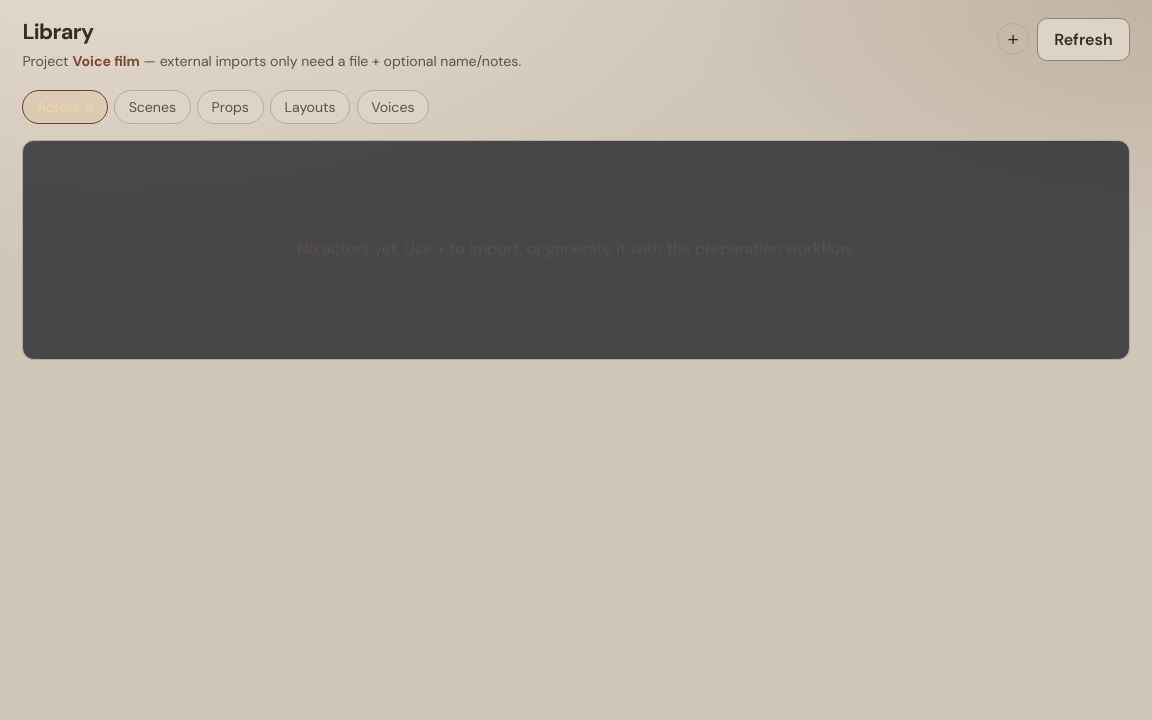
Test: LibraryPage Voices › edits an asset name and notes from its Library card
Click the button "Voices" at [393, 107], box [356, 90, 429, 124]
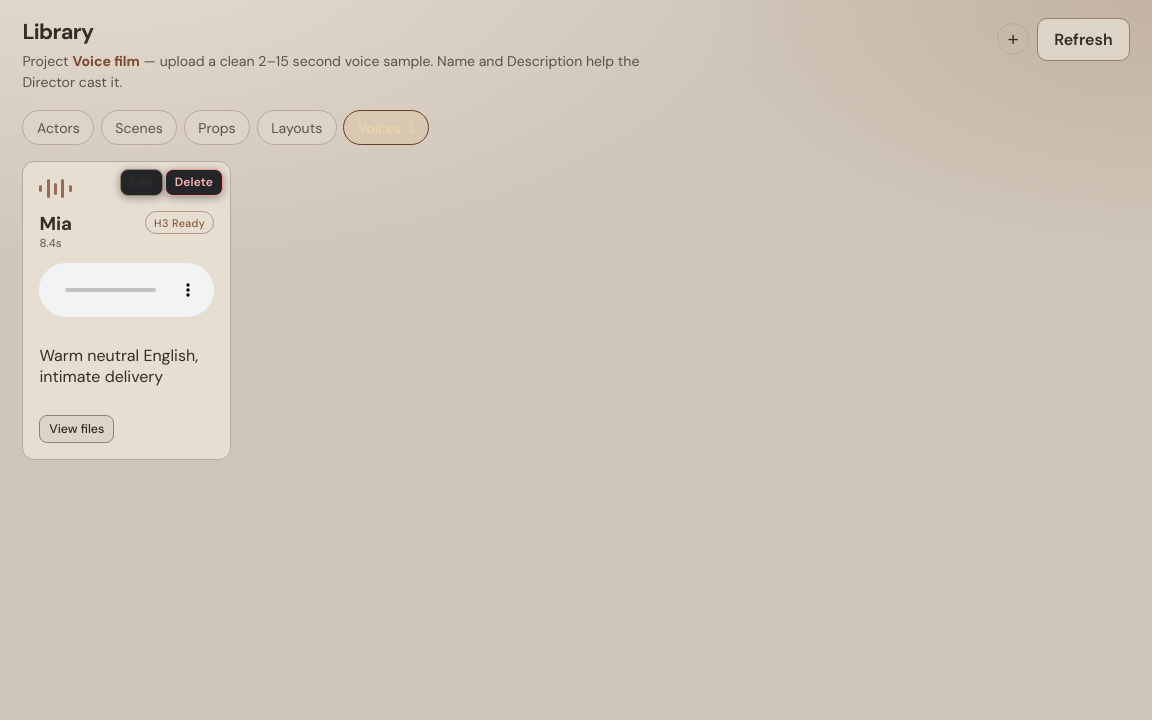
Check: the heading "Mia" is shown, box [39, 211, 72, 236]
Click the button with aria-label "Edit Mia metadata" at [141, 182], box [120, 169, 163, 196]
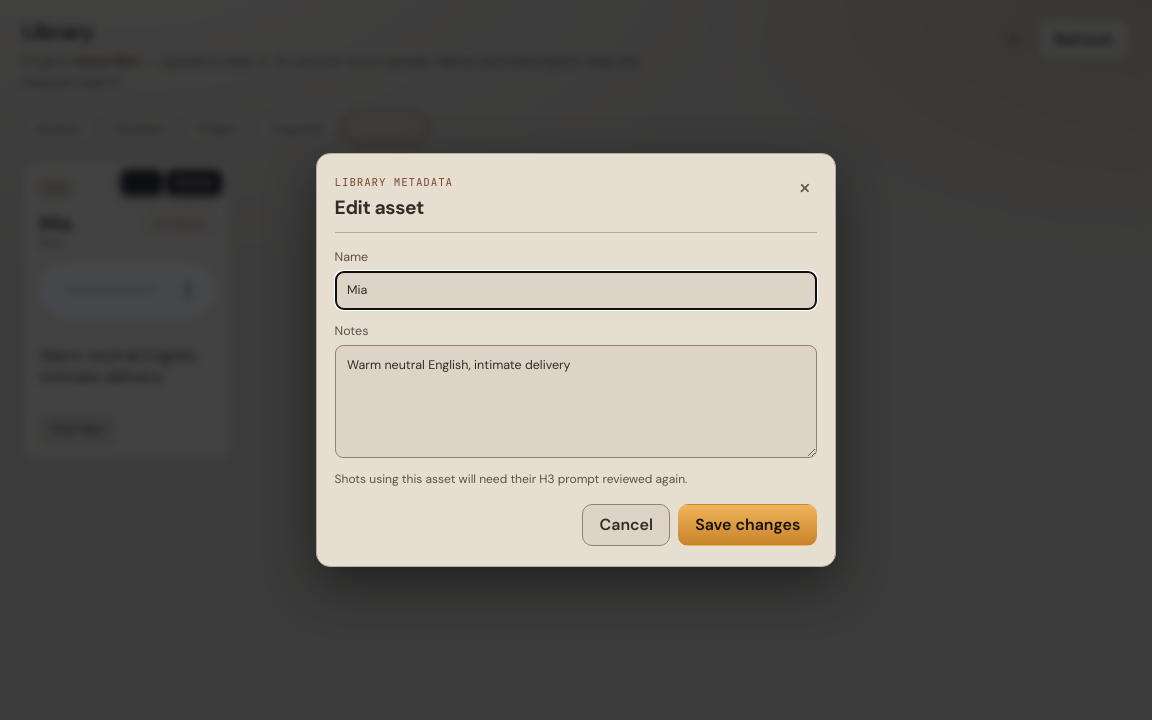
Check: the dialog named "Edit Mia metadata" is shown
Replace the text in the field labelled "Name" with "Mia close-up" at [576, 290], box [335, 271, 817, 310]
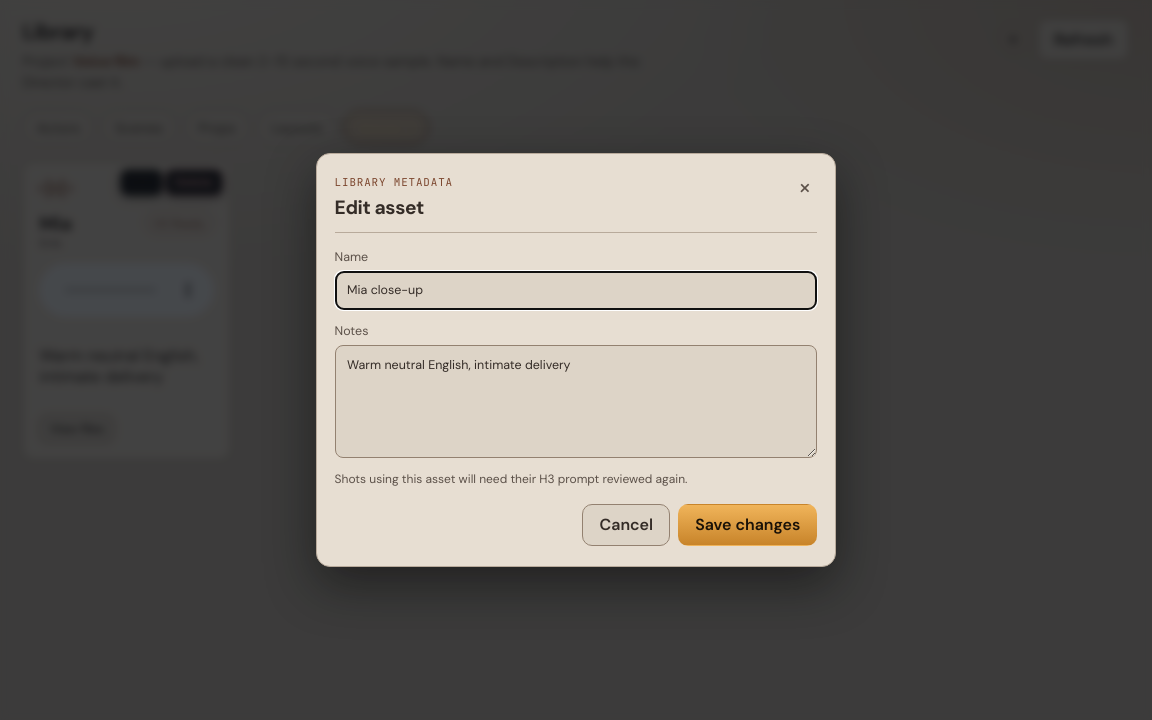
Replace the text in the text box labelled "Notes" with "Warm cyan smile" at [576, 402], box [335, 345, 817, 458]
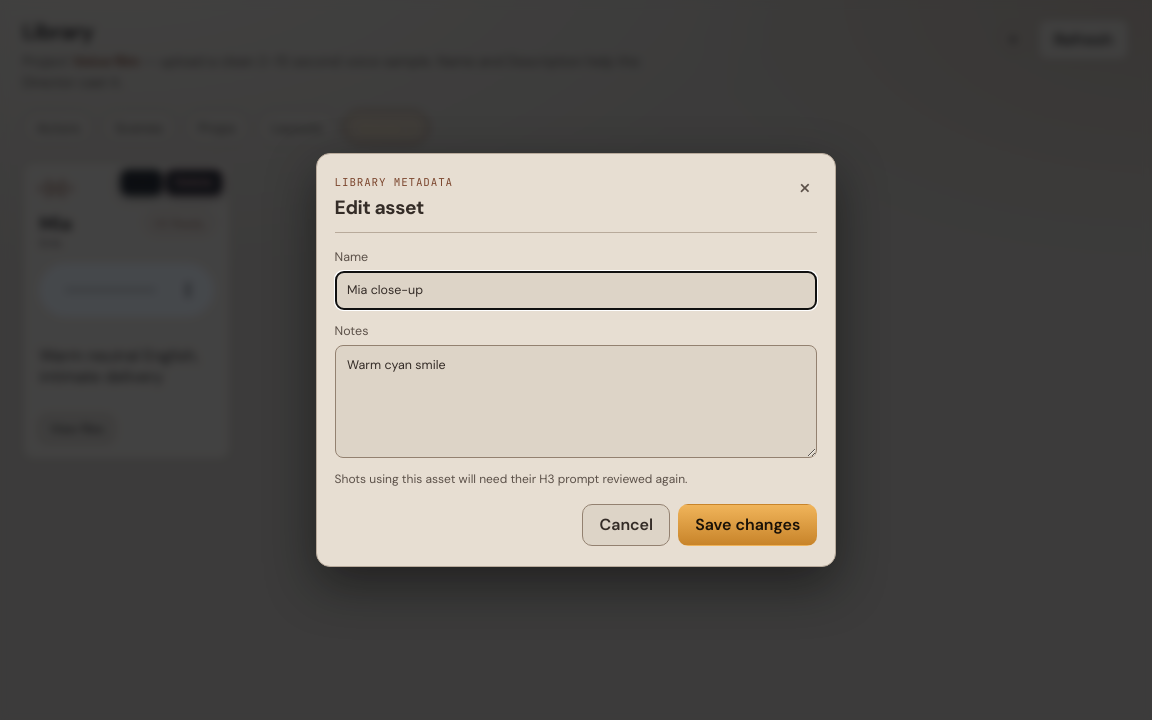
Click the button "Save changes" at [748, 525], box [678, 504, 817, 546]
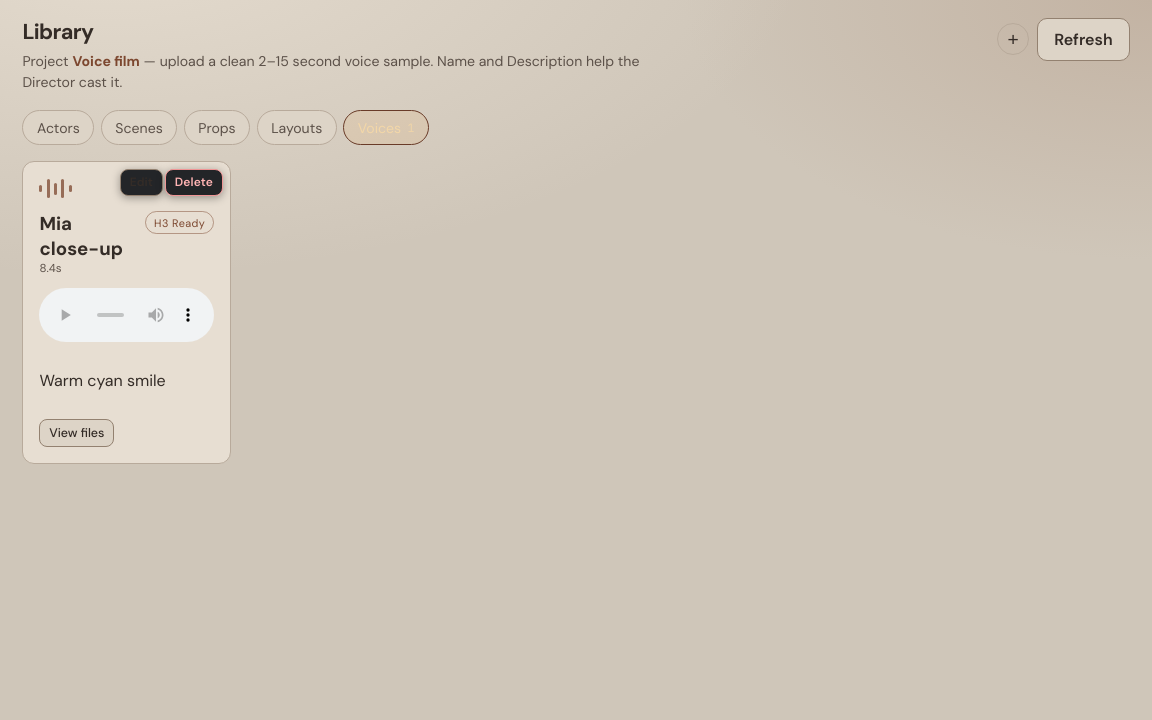
Check: the heading "Mia close-up" is shown, box [39, 211, 133, 261]
Check: the text "Warm cyan smile" is shown, box [39, 370, 166, 391]
